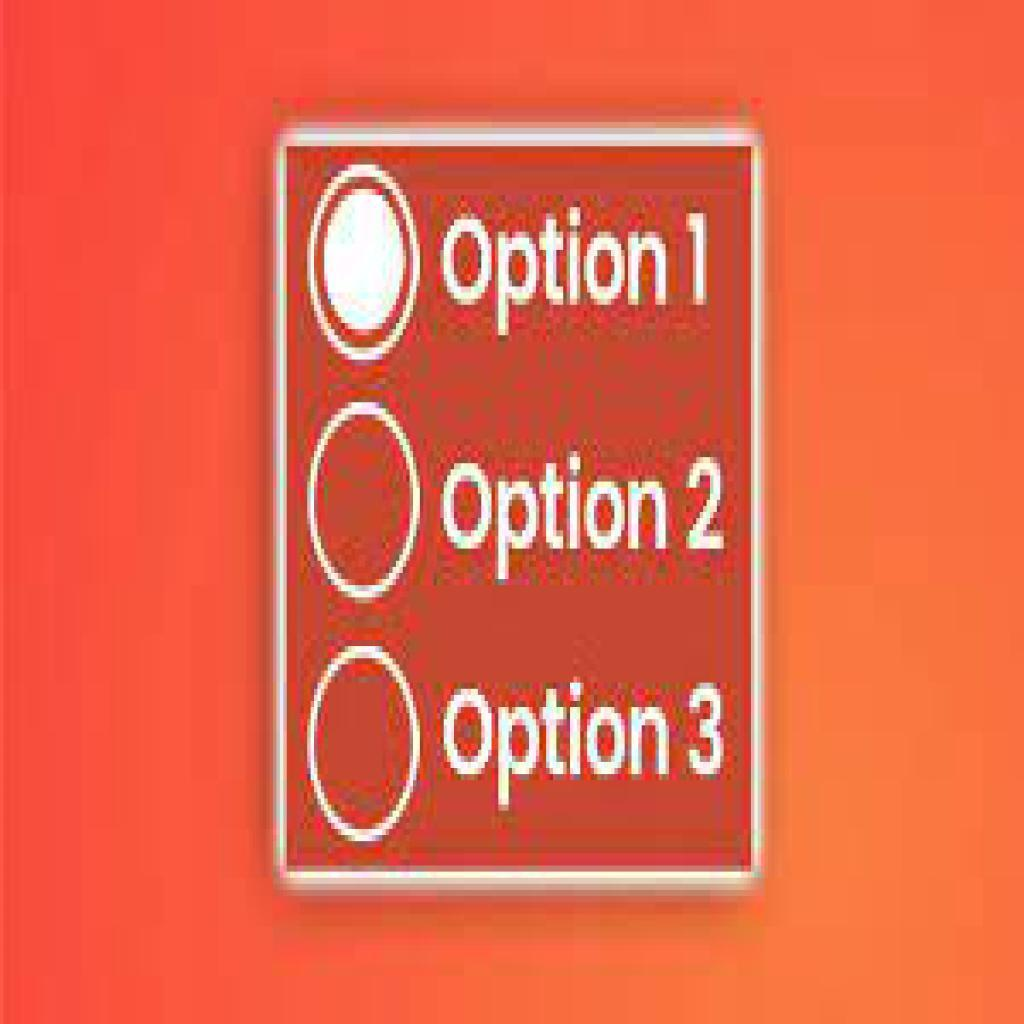radio: (293, 403, 431, 608), (299, 159, 429, 375), (301, 640, 427, 849)
